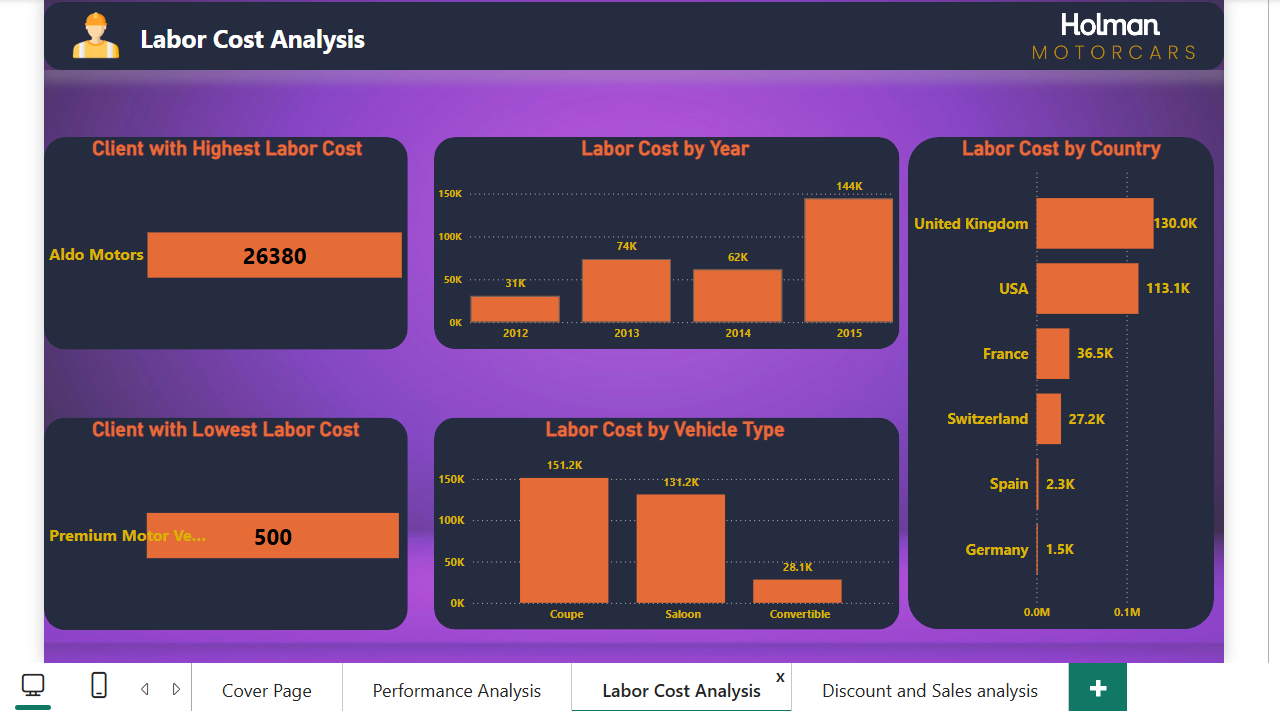

What the dashboard file says about the page in this screenshot:
{"tool":"powerbi","page":{"name":"Labor Cost Analysis","canvas":[1280,720],"ordinal":2},"visuals":[{"type":"shape","box":[0,3.8,1280,73.8],"z":0},{"type":"image","box":[25.7,4.3,60,68.6],"z":1000},{"type":"textbox","box":[100,20,300,70],"z":2000},{"type":"image","box":[1064.3,10,191.4,60],"z":3000},{"type":"shape","box":[0,149.5,394.5,230.6],"z":4000},{"type":"shape","box":[422.3,150.1,504.9,230],"z":5000},{"type":"shape","box":[0,453.3,394.5,230.6],"z":6000},{"type":"shape","box":[422.3,454,504.9,230],"z":7000},{"type":"shape","box":[936.9,150.1,331.9,533.9],"z":8000},{"type":"funnel","title":"Client with Highest Labor Cost","fields":{"Category":["BaseData.ClientName"],"Y":["Sum(BaseData.LaborCost)"]},"box":[0,149.5,397.7,230.6],"z":9000},{"type":"clusteredColumnChart","title":"Labor Cost by Year","fields":{"Y":["Sum(BaseData.LaborCost)"],"Category":["BaseData.InvoiceDate.Variation.Date Hierarchy.Year"]},"box":[421.4,149.3,504.6,230.6],"z":10000},{"type":"barChart","title":"Labor Cost by Country","fields":{"Category":["BaseData.CountryName"],"Y":["Sum(BaseData.LaborCost)"]},"box":[937.3,149.3,332.6,532.9],"z":11000},{"type":"clusteredColumnChart","title":"Labor Cost by Vehicle Type","fields":{"Y":["Sum(BaseData.LaborCost)"],"Category":["BaseData.VehicleType"]},"box":[421.5,453.3,504.2,230.6],"z":12000},{"type":"funnel","title":"Client with Lowest Labor Cost","fields":{"Category":["BaseData.ClientName"],"Y":["Sum(BaseData.LaborCost)"]},"box":[0,453.3,394.5,230.6],"z":13000}]}

Visuals, with their boxes on the page's 1280x720 design canvas (x1, y1, x2, y2). These are canvas units, not pixel positions in the 1280x711 screenshot, which may show the page scaled, cropped or inside an application window:
shape: region(0, 4, 1280, 78)
image: region(26, 4, 86, 73)
textbox: region(100, 20, 400, 90)
image: region(1064, 10, 1256, 70)
shape: region(0, 150, 394, 380)
shape: region(422, 150, 927, 380)
shape: region(0, 453, 394, 684)
shape: region(422, 454, 927, 684)
shape: region(937, 150, 1269, 684)
"Client with Highest Labor Cost" funnel: region(0, 150, 398, 380)
"Labor Cost by Year" clusteredColumnChart: region(421, 149, 926, 380)
"Labor Cost by Country" barChart: region(937, 149, 1270, 682)
"Labor Cost by Vehicle Type" clusteredColumnChart: region(422, 453, 926, 684)
"Client with Lowest Labor Cost" funnel: region(0, 453, 394, 684)
